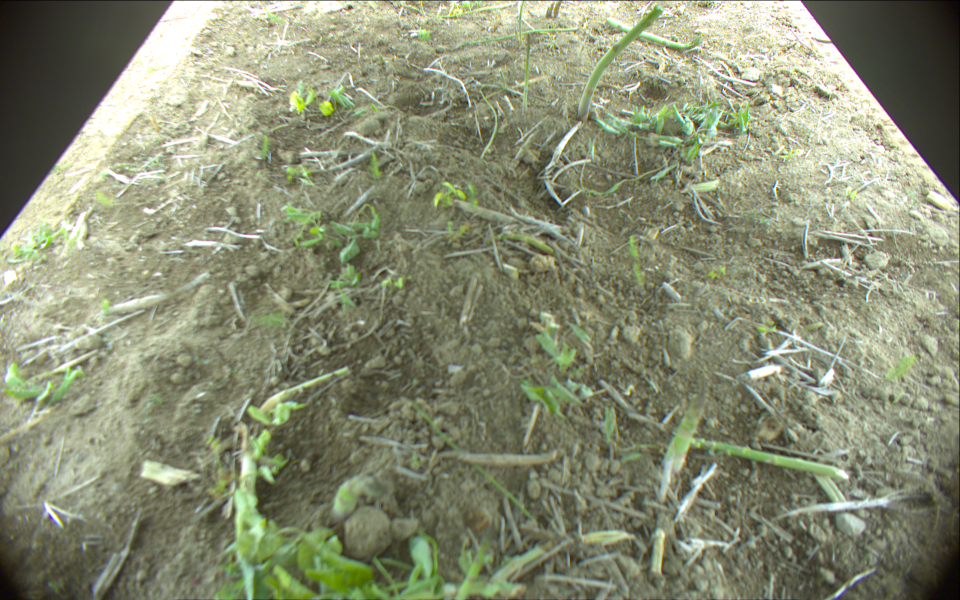aspa: (578, 5, 663, 121), (691, 438, 849, 480), (662, 382, 706, 469), (605, 18, 704, 50), (475, 25, 583, 45), (401, 1, 518, 19), (522, 35, 533, 106), (517, 1, 528, 34)
